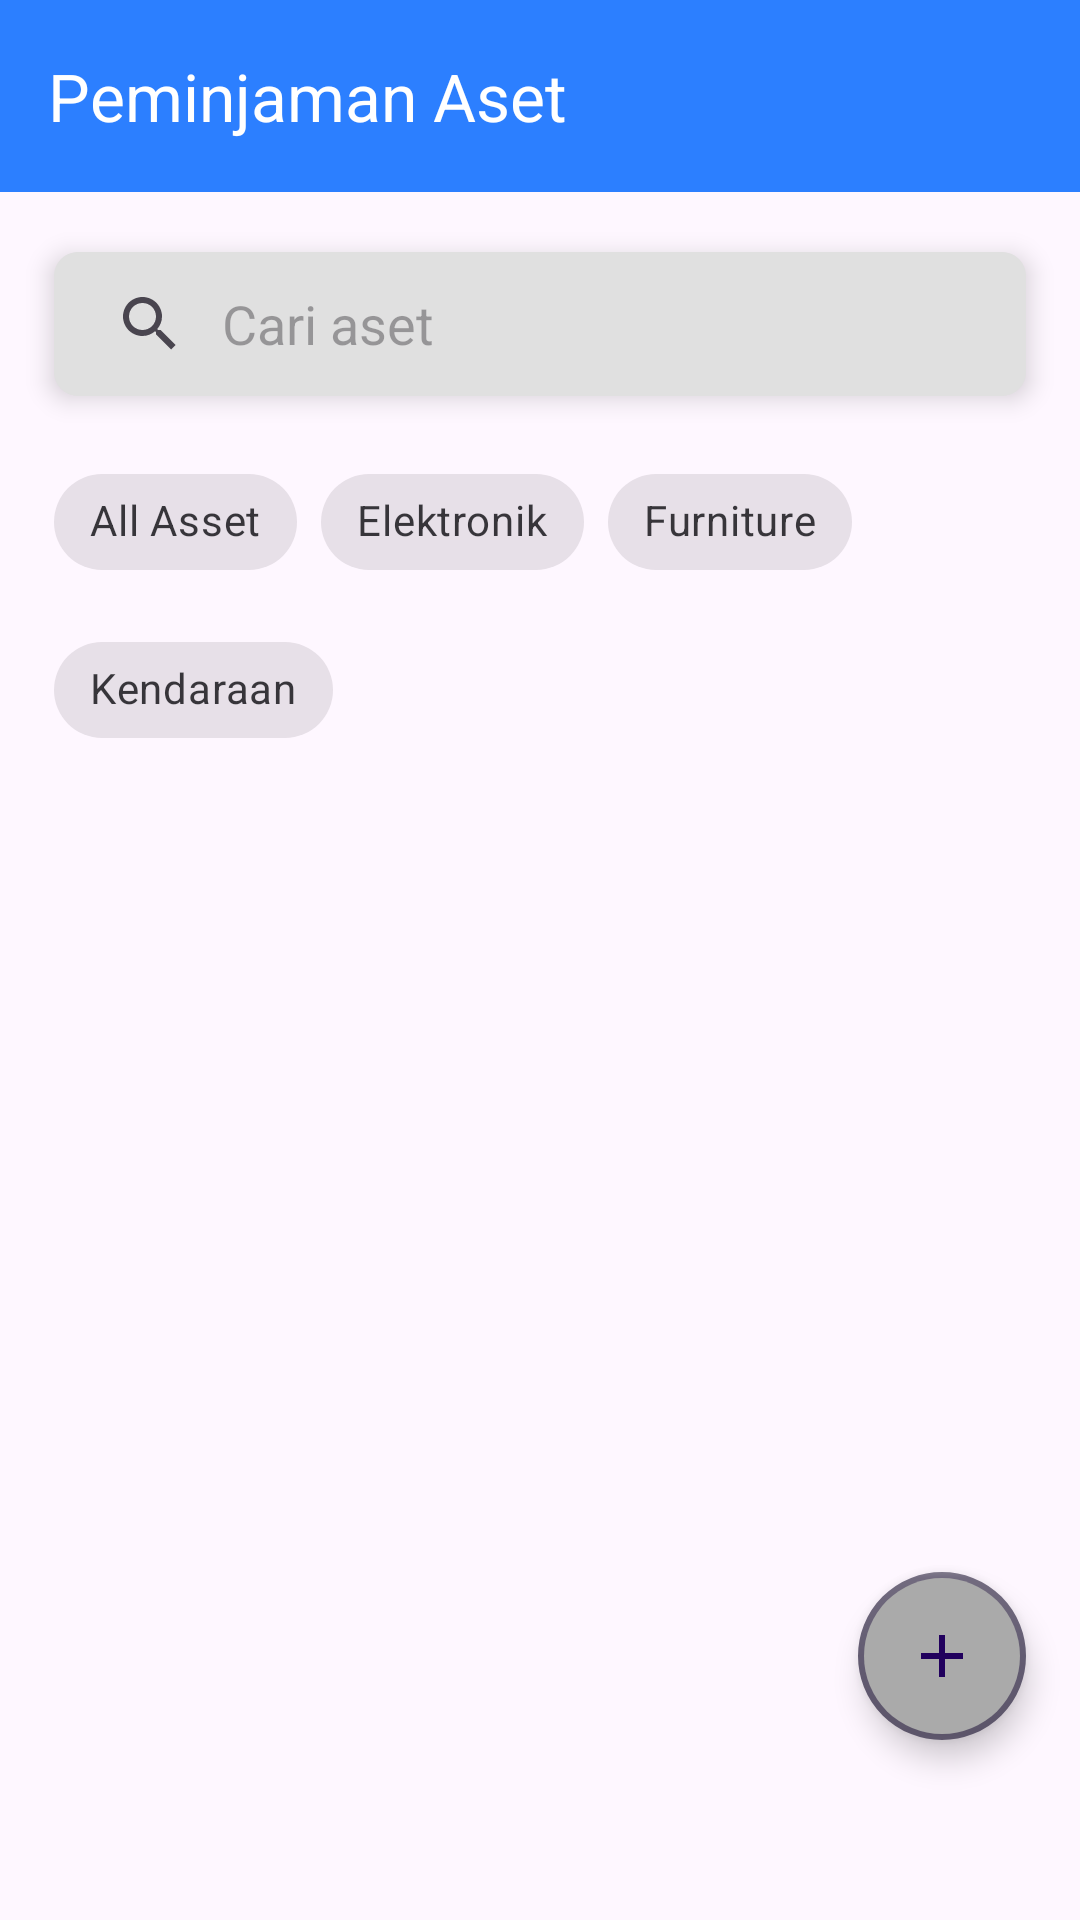

Named icons in this screenshot (1080*1920) and their centers, point (x, y):
Tambah aset baru: point (942, 1656)
